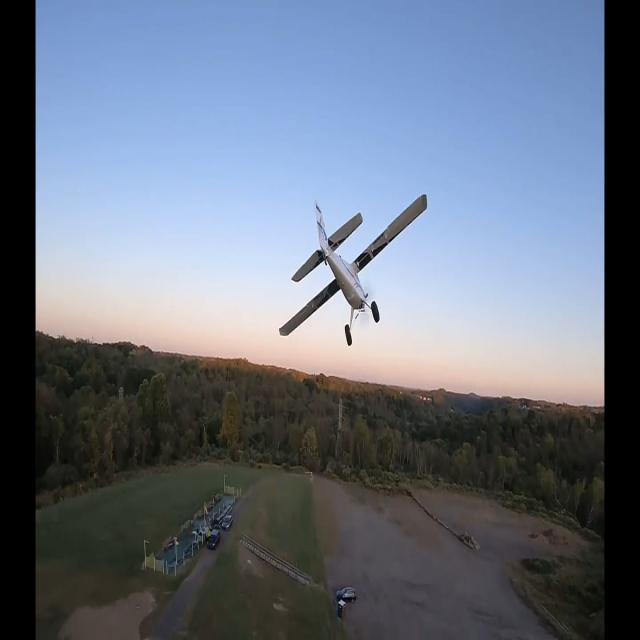iha: (279, 192, 429, 351)
